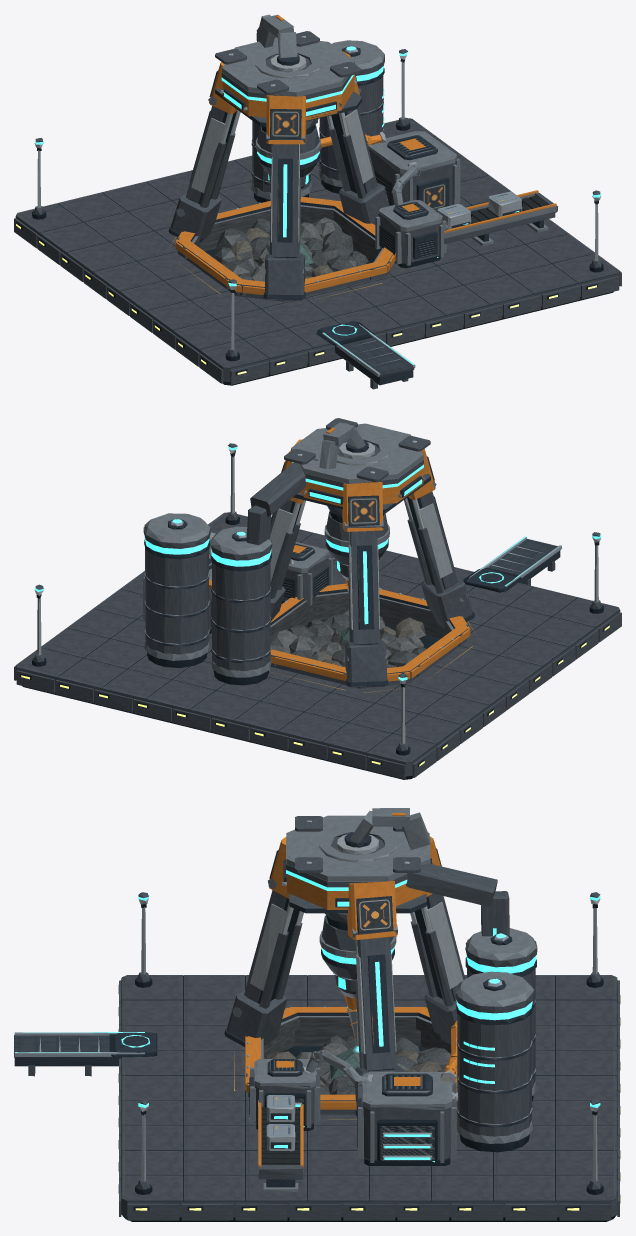
File: EX03_ExtractorIndustrial_Distancia.fbx
3 views of the same model, one above another, from view 1: azimuth 30°, elevation 25°; view 2: azimuth 150°, elevation 25°; view 3: azimuth 270°, elevation 25° (orthographic). The views are drawn at different scales.
Parts seen in each view (by area): view 1: EstructuraDistante_3, BrocaDistante_3; view 2: EstructuraDistante_3, BrocaDistante_3; view 3: EstructuraDistante_3, BrocaDistante_3.
Part boxes in pixels (x1,y1,x2,y2): EstructuraDistante_3: (14,14,621,389); BrocaDistante_3: (255,124,321,191); EstructuraDistante_3: (14,418,621,779); BrocaDistante_3: (324,511,389,597); EstructuraDistante_3: (14,808,621,1221); BrocaDistante_3: (319,915,396,1049).
Size of the model in its own units: 9.03 by 5.18 by 10.1.
